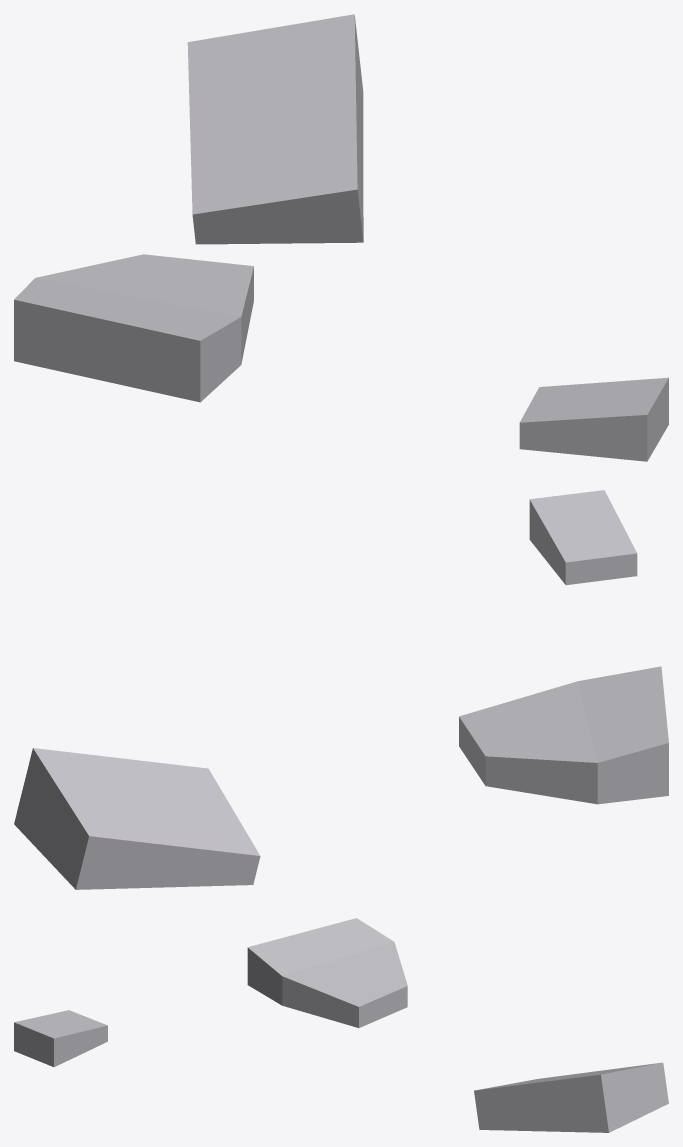
File: Rock_Blocks_s_05.fbx
3 renders of one model, top to bottom at view 1: azimuth 30°, elevation 25°; view 2: azimuth 150°, elevation 25°; view 3: azimuth 270°, elevation 25°, orthographic. The views are drawn at different scales.
Visible parts, largest first — view 1: Rock_Blocks_s_05; view 2: Rock_Blocks_s_05; view 3: Rock_Blocks_s_05.
Boxes of the visible parts, x1,y1,x2,y2 form: Rock_Blocks_s_05: [14, 14, 668, 461]; Rock_Blocks_s_05: [14, 490, 668, 889]; Rock_Blocks_s_05: [14, 918, 668, 1132].
Size of the model in its own units: 31.58 by 7.83 by 52.59.
